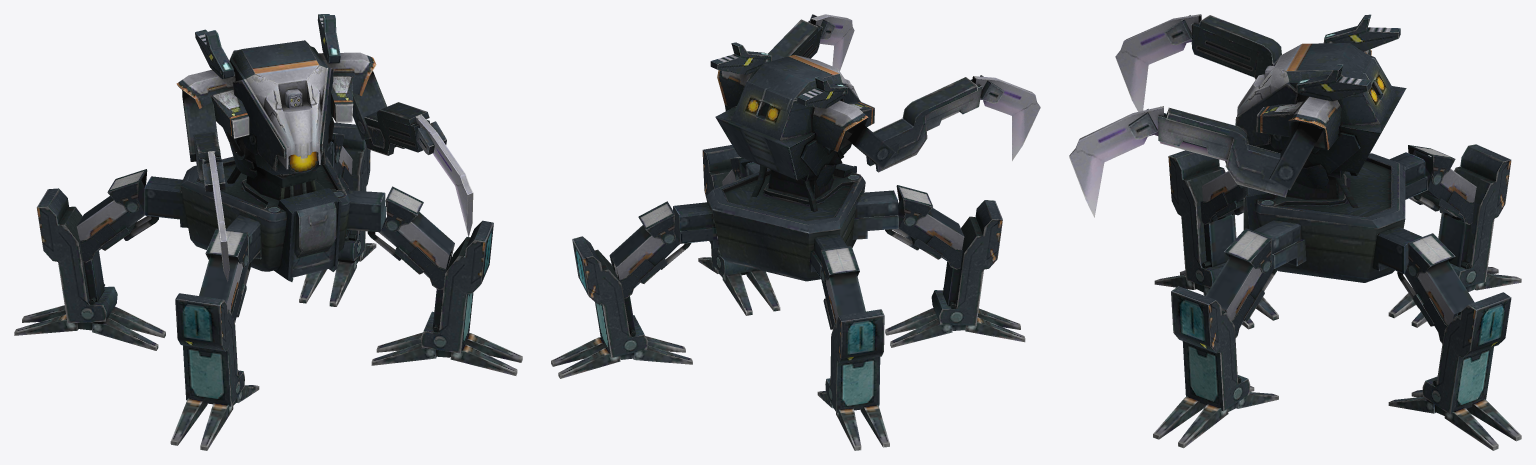
3 renders of one model, left to right at view 1: azimuth 30°, elevation 25°; view 2: azimuth 150°, elevation 25°; view 3: azimuth 270°, elevation 25°, orthographic. The views are drawn at different scales.
Parts seen in each view (by area): view 1: 20_10; view 2: 20_10; view 3: 20_10.
Boxes of the visible parts, x1,y1,x2,y2 form: 20_10: (14,14,522,450); 20_10: (551,14,1040,450); 20_10: (1069,14,1521,450).
Bounding box in the file's own units: 301 × 252 × 320.
